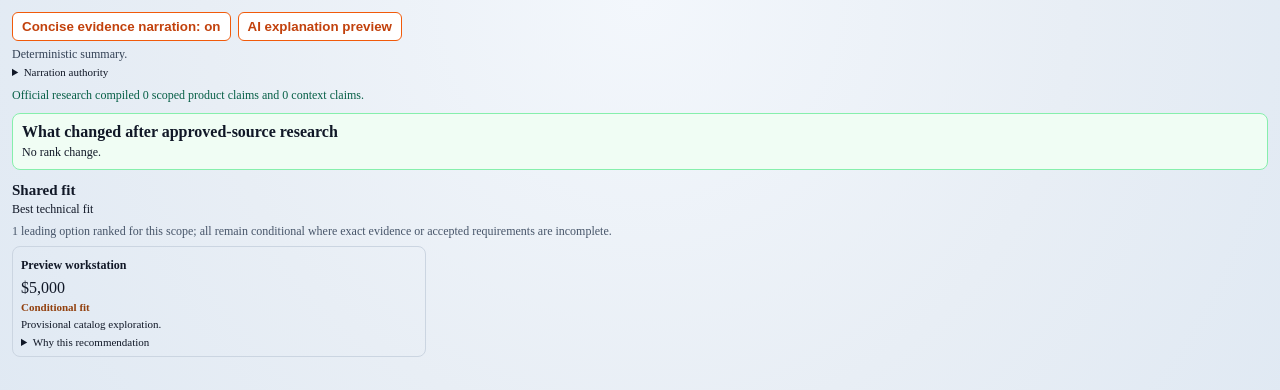
Scenario: research truth panels › shows only critic-accepted preview output and labels its lack of authority
Expected: the text with test id "deterministic-shelf-narration" reads "Deterministic summary.", [12,47,127,61]
Click the button "AI explanation preview": (320, 26) [238,12,402,41]
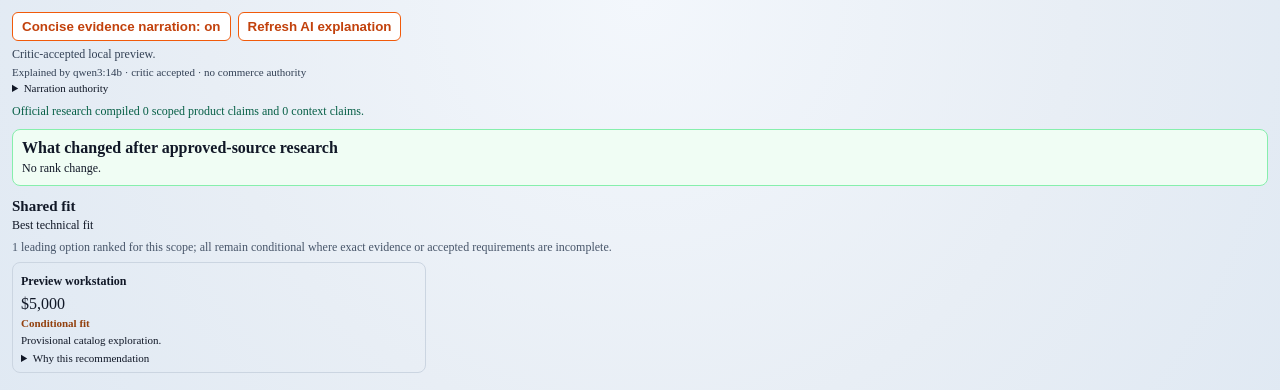
Expected: the element with test id "deterministic-shelf-narration" shows "Critic-accepted local preview.", [12,47,156,61]
Expected: the text with test id "narration-preview-status" reads "Explained by qwen3:14b · critic accepted · no commerce authority", [12,66,306,78]
